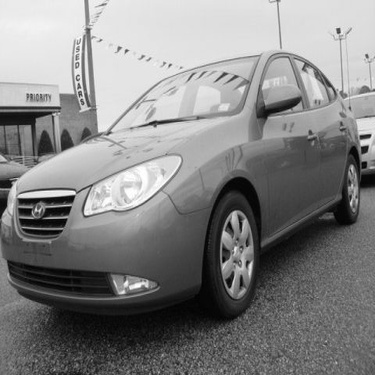car: (12, 28, 366, 307)
